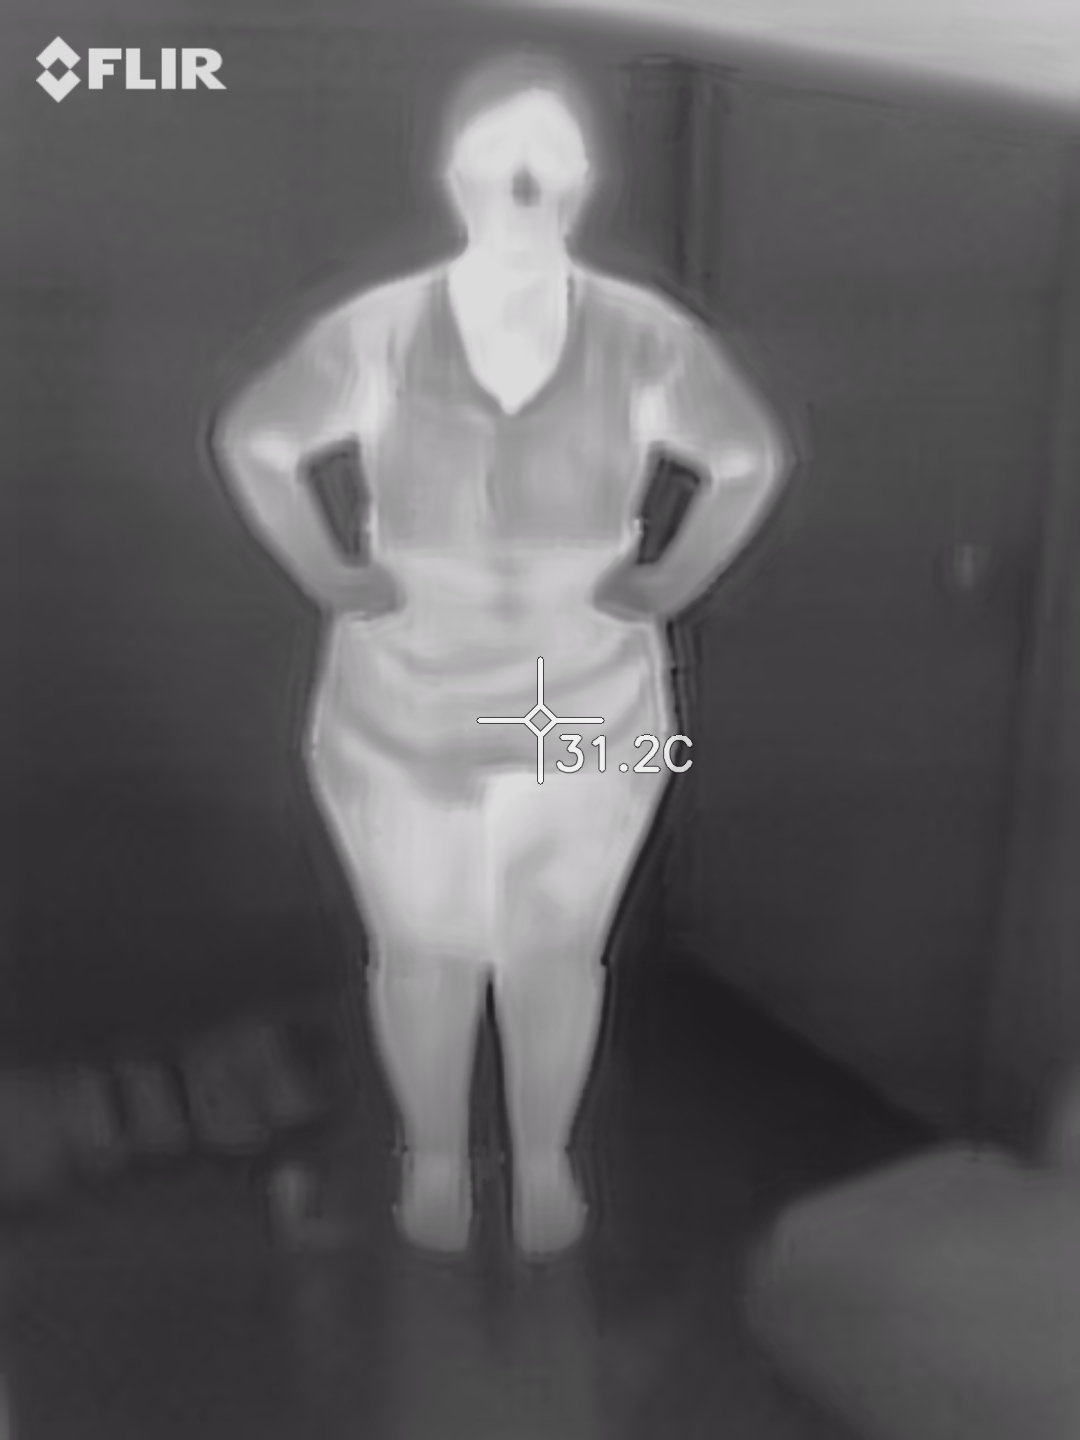head: (426, 51, 614, 293)
